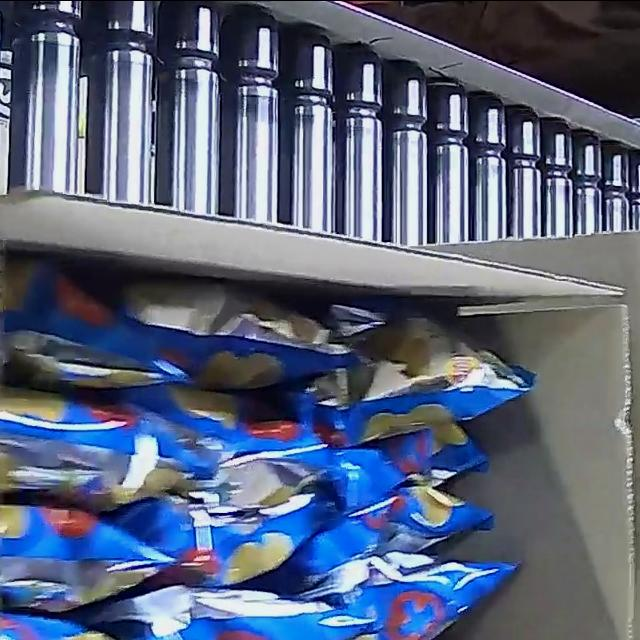paprika: (0, 265, 540, 640)
